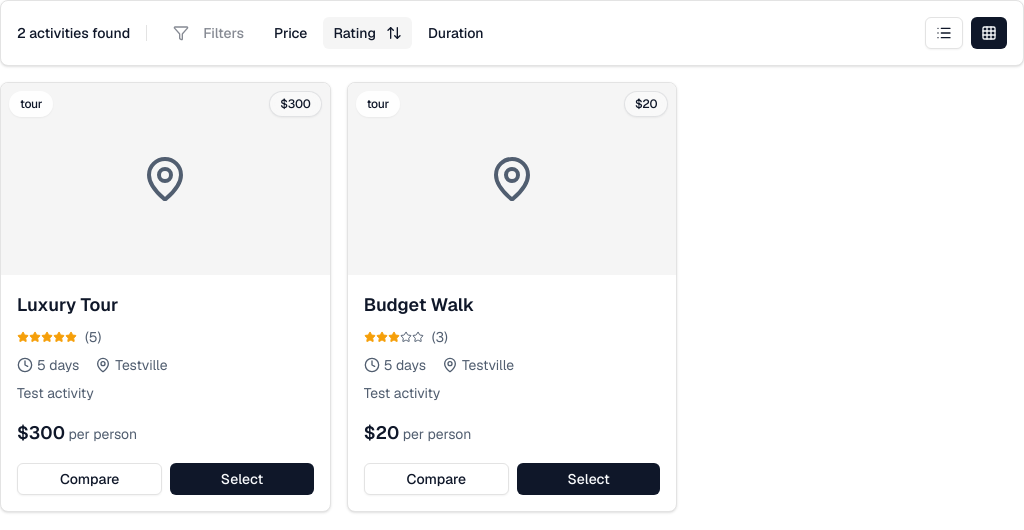
ActivityResults › reorders activities when sort controls change
This screenshot has width=1024, height=530.
Expected: the headings read "Luxury Tour", "Budget Walk", in this order, top-left (17, 293), bottom-right (118, 316); top-left (364, 293), bottom-right (474, 316)
Click the button "Price" at x=291, y=33, box top-left (262, 17), bottom-right (320, 49)
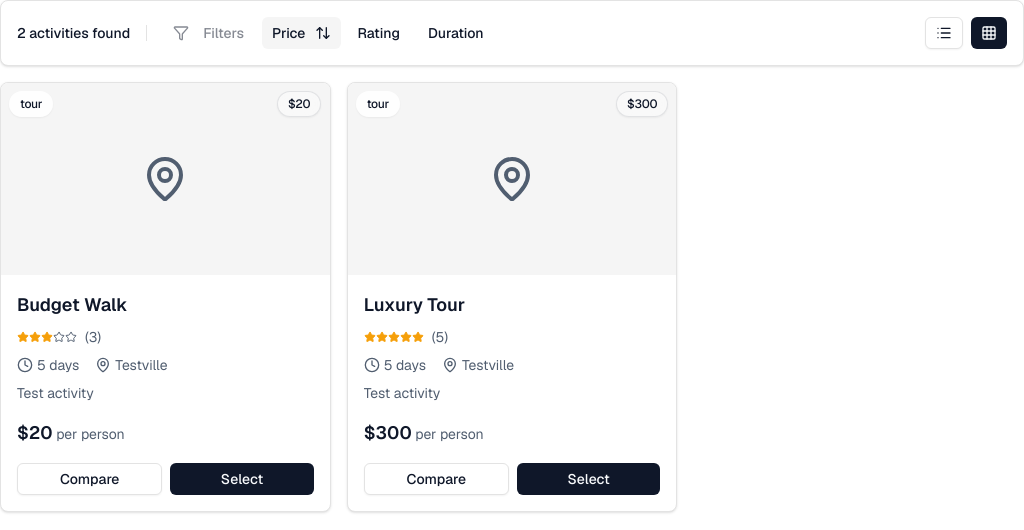
Result: the headings read "Budget Walk", "Luxury Tour", in this order at top-left (17, 293), bottom-right (128, 316); top-left (364, 293), bottom-right (465, 316)
